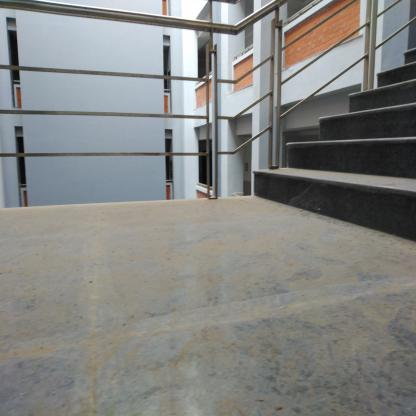stairs: (348, 93, 416, 247)
